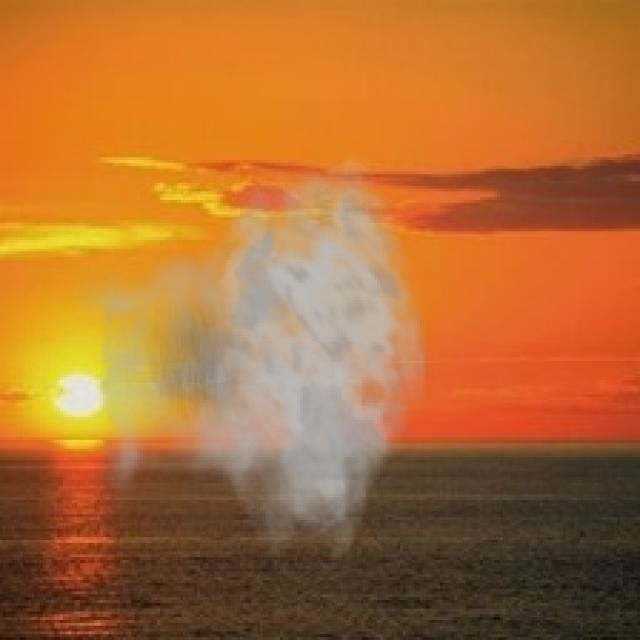smoke: (66, 154, 428, 569)
